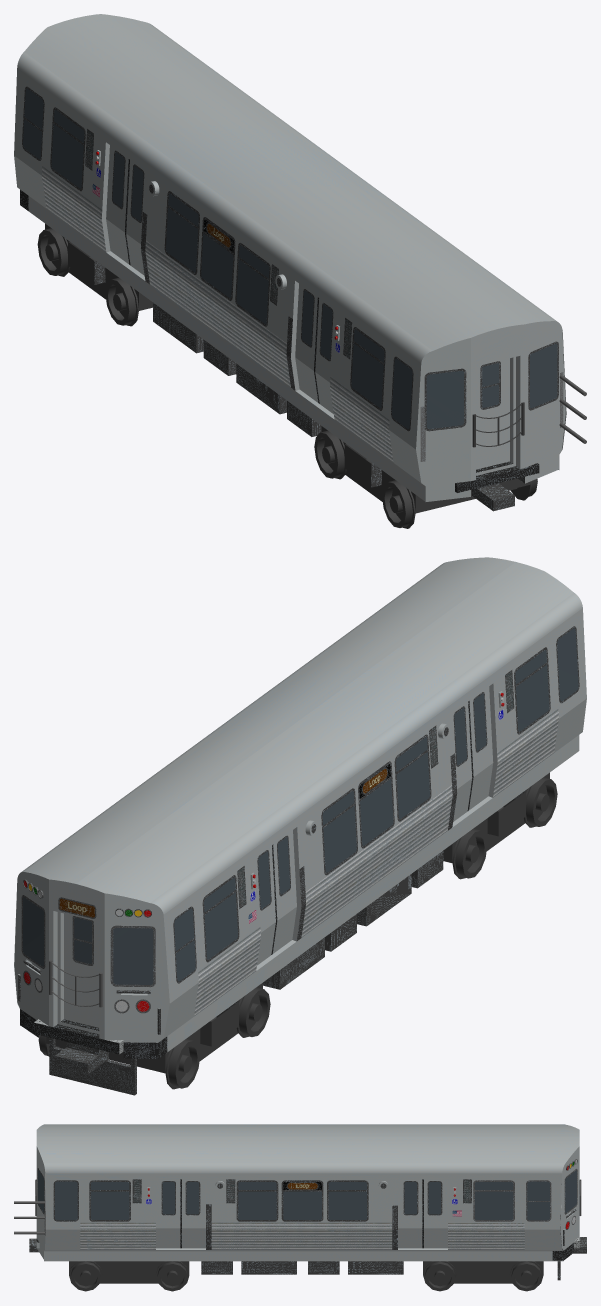
Rendered from train.dae.
3 renders of one model, top to bottom at view 1: azimuth 30°, elevation 25°; view 2: azimuth 150°, elevation 25°; view 3: azimuth 270°, elevation 25°, orthographic. The views are drawn at different scales.
Visible parts, largest first — view 1: instance_0 (×19); view 2: instance_0 (×20); view 3: instance_0 (×42).
Part boxes in pixels (<box>): instance_0 (×19): <box>14,14,565,528</box>; instance_0 (×20): <box>14,557,586,1095</box>; instance_0 (×42): <box>29,1124,586,1291</box>.
Bounding box in the file's own units: 106 × 542 × 142.
